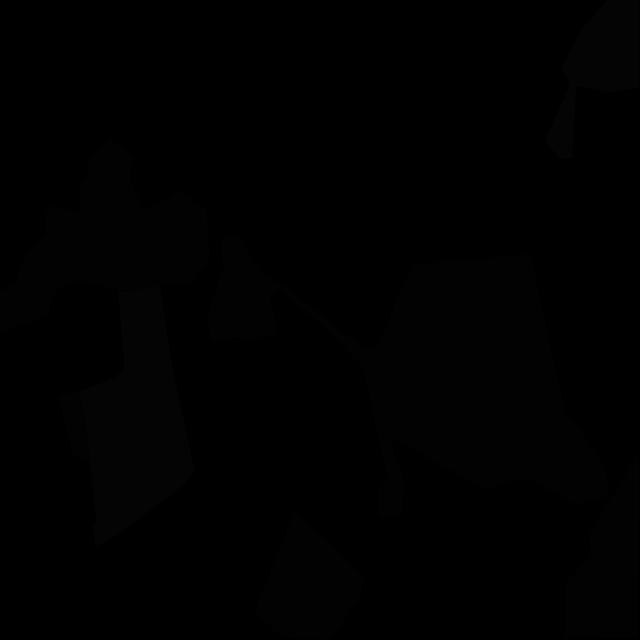cardboard: (208, 234, 609, 518), (80, 139, 210, 291), (0, 205, 122, 333), (254, 509, 366, 640), (564, 452, 639, 639), (58, 391, 90, 463)
soft_plastic: (77, 286, 195, 547), (545, 0, 640, 159)
